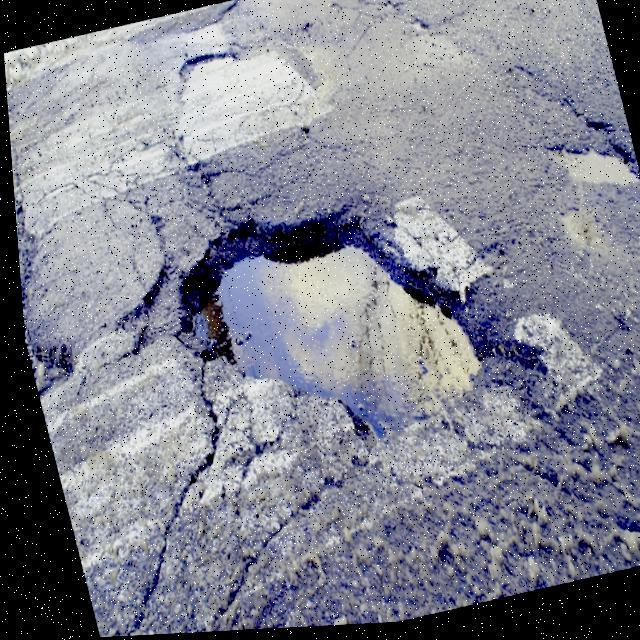pothole: (141, 162, 514, 488)
